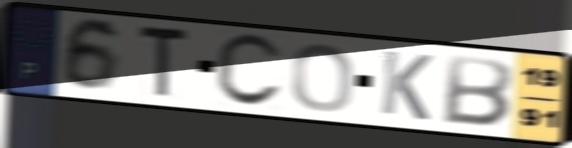6: (56, 16, 126, 97)
B: (439, 53, 517, 130)
C: (212, 32, 286, 111)
K: (377, 48, 435, 124)
O: (290, 41, 357, 114)
T: (137, 22, 192, 101)
